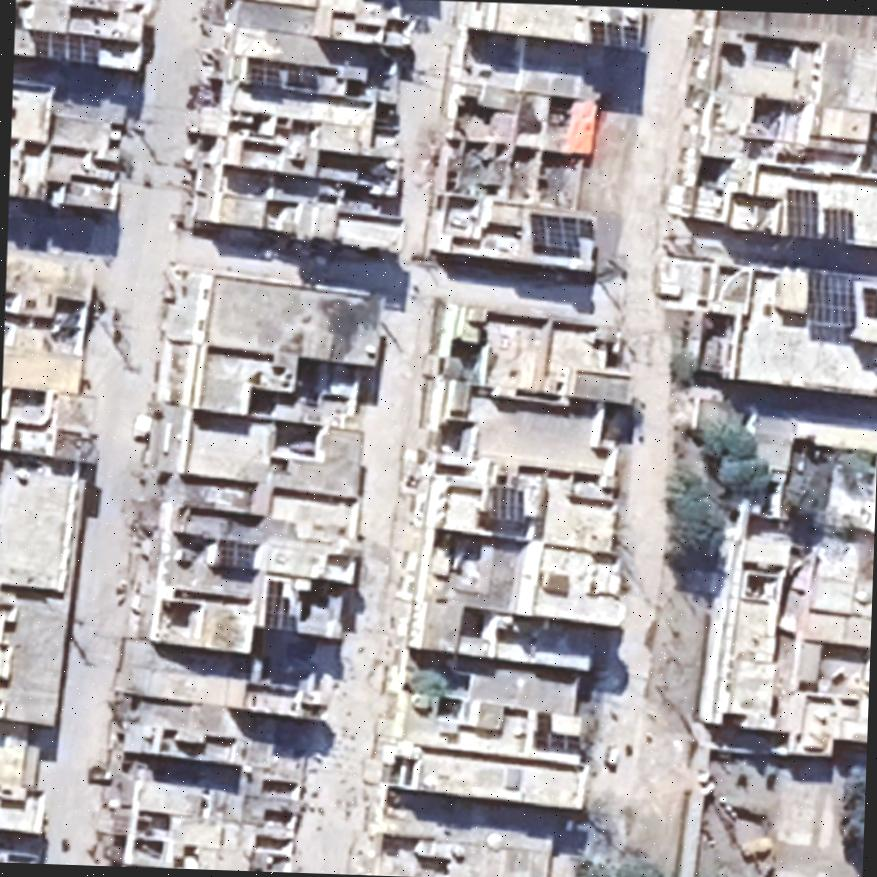Solarpanel: (798, 266, 862, 341), (521, 208, 598, 262), (239, 54, 322, 97), (25, 25, 104, 70), (584, 13, 646, 56), (779, 184, 823, 244), (258, 576, 300, 637), (481, 480, 528, 528), (213, 534, 260, 574), (819, 203, 858, 248), (858, 283, 877, 322)
